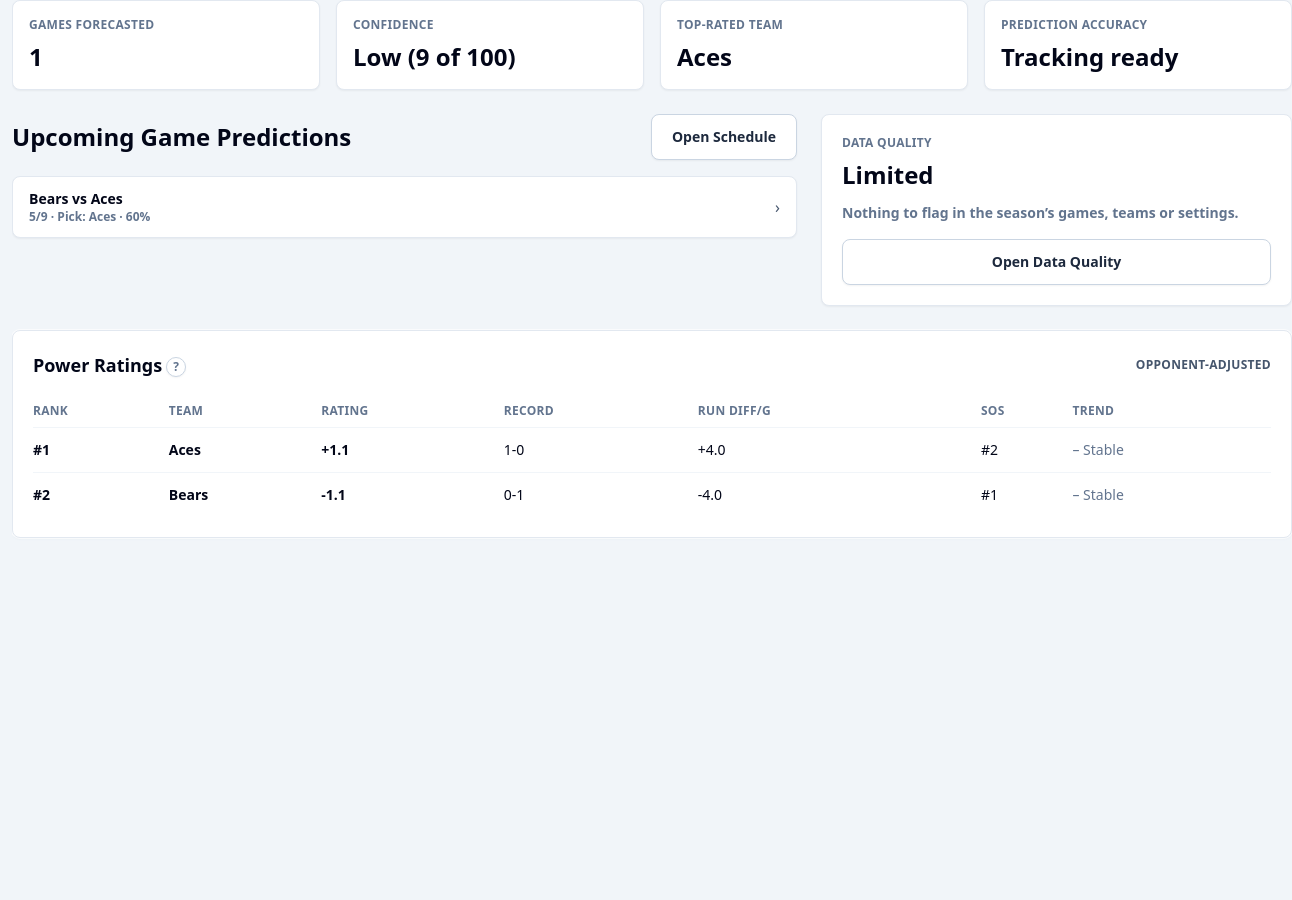
it: a prediction card's Why button › on a phone shows each upcoming game as a line until it is opened
The width and height of the screenshot is (1292, 900).
Expected: the button "Why " is not shown
Click the button "Bears vs Aces 5/9 · Pick: Aces · 60% ›". click: click(49, 198)
box: left=12, top=176, right=797, bottom=238
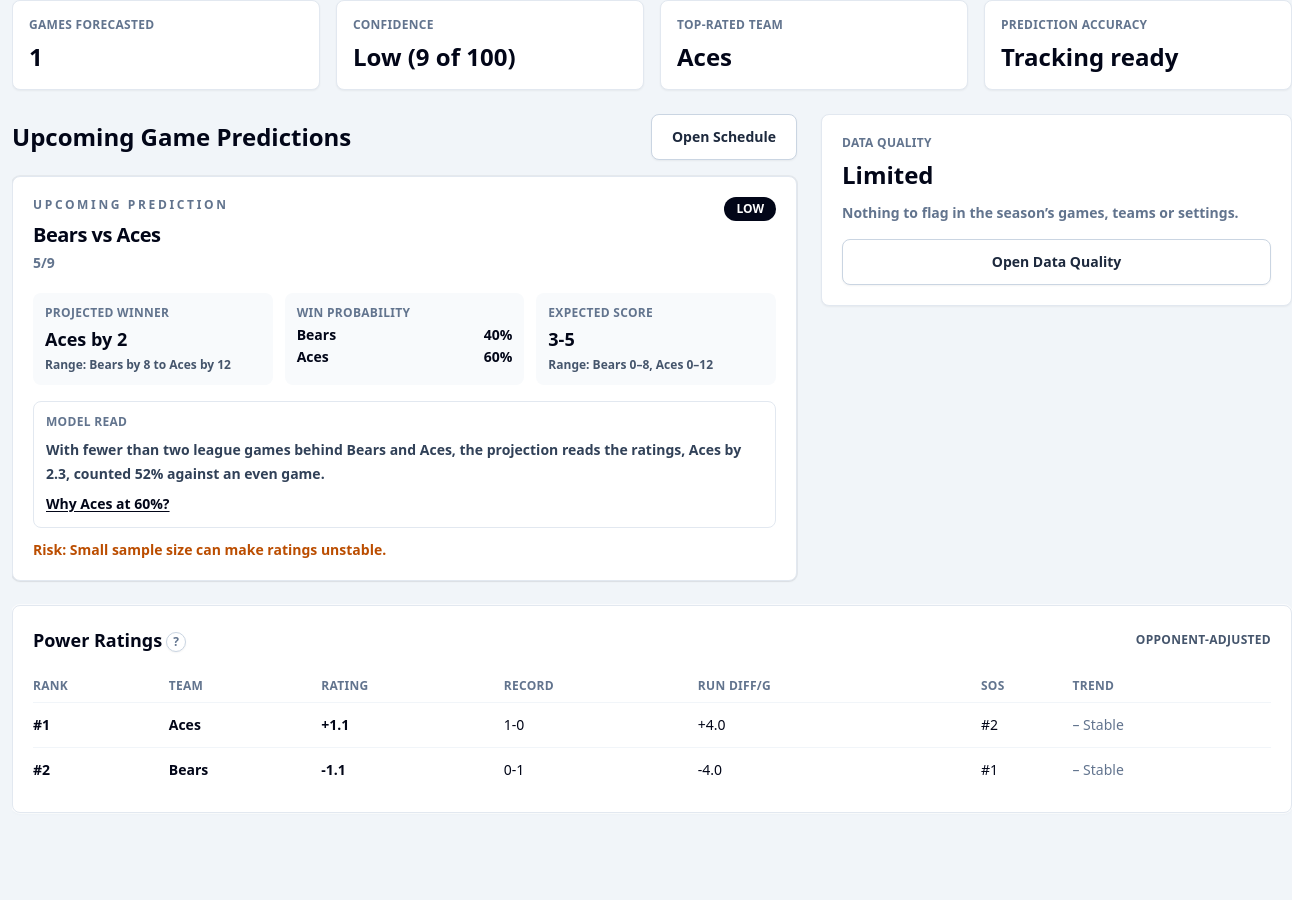
Expected: the button "Why Aces at 60%?" is shown, left=46, top=494, right=170, bottom=514
